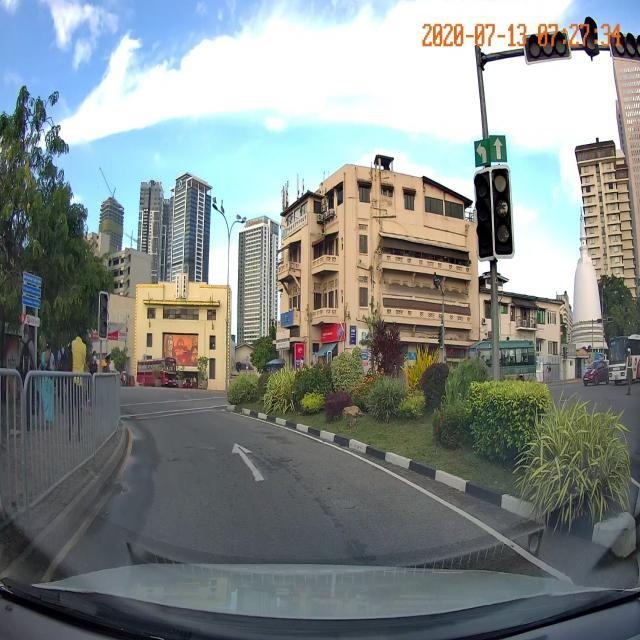forward: (91, 430, 376, 510)
